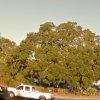Tree: (24, 19, 95, 88)
